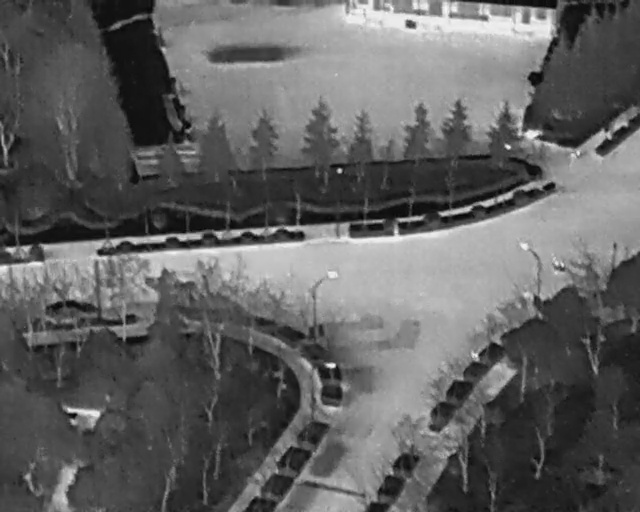Car: (39, 297, 100, 318)
Person: (568, 151, 577, 170), (553, 258, 561, 277), (560, 260, 566, 275)
